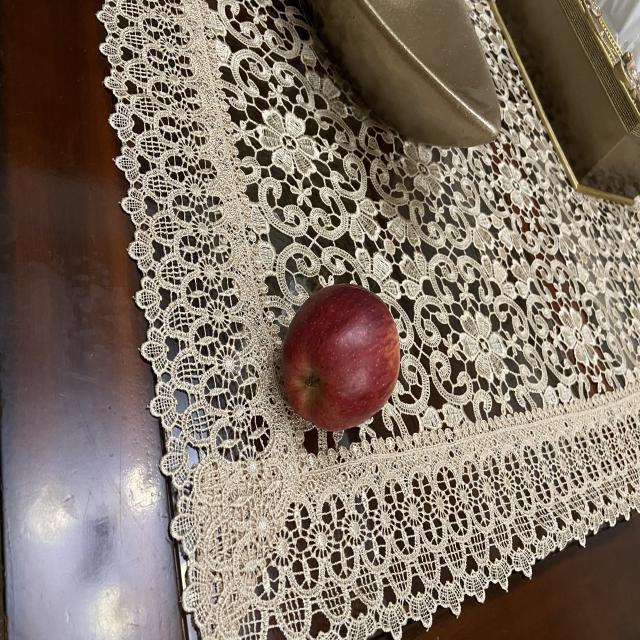apple: (275, 288, 403, 434)
